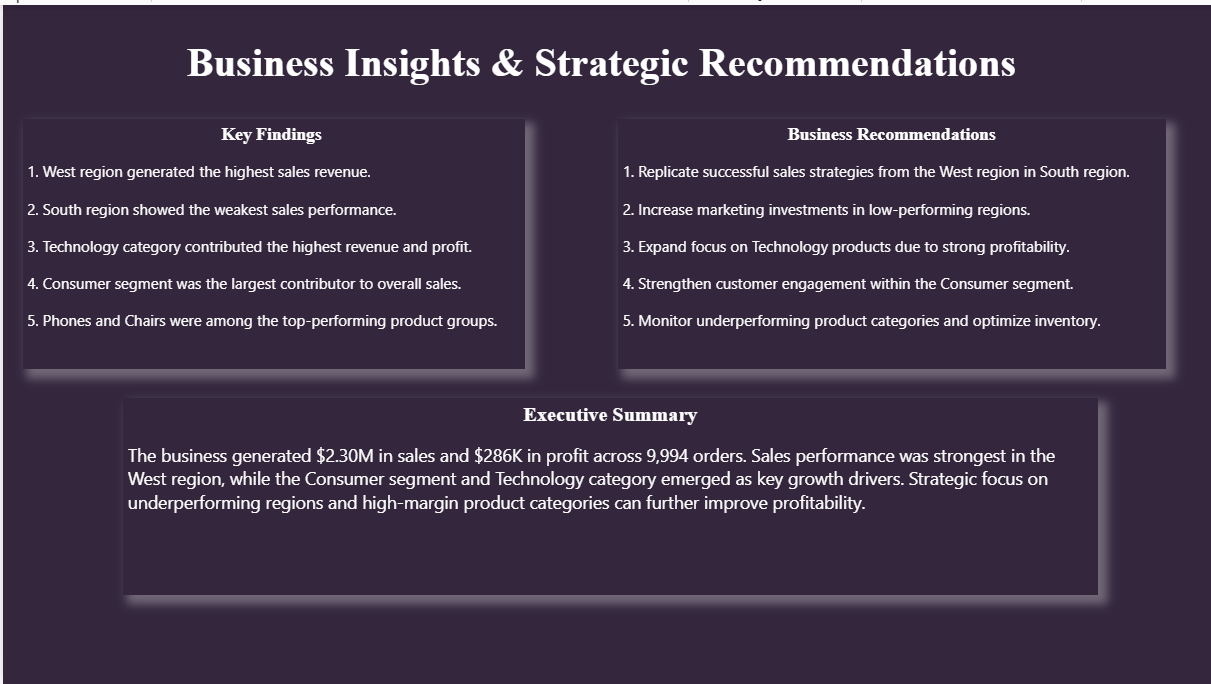

The dashboard page shown, as its layout file describes it:
{"tool":"powerbi","page":{"name":"Business Insights","canvas":[1280,720],"ordinal":1},"visuals":[{"type":"textbox","box":[20.7,31.8,1228,89.1],"z":0},{"type":"textbox","box":[20.7,120.9,532.9,265.6],"z":1},{"type":"textbox","box":[652.2,120.9,580.6,265.6],"z":2},{"type":"textbox","box":[127.2,416.7,1033.9,208.4],"z":3}]}

Visuals, with their boxes in screenshot pixels (x1, y1, x2, y2), scaled from the page's 1280x720 canvas onto the 1211x684 screenshot:
textbox: rect(20, 30, 1181, 115)
textbox: rect(20, 115, 524, 367)
textbox: rect(617, 115, 1166, 367)
textbox: rect(120, 396, 1099, 594)
